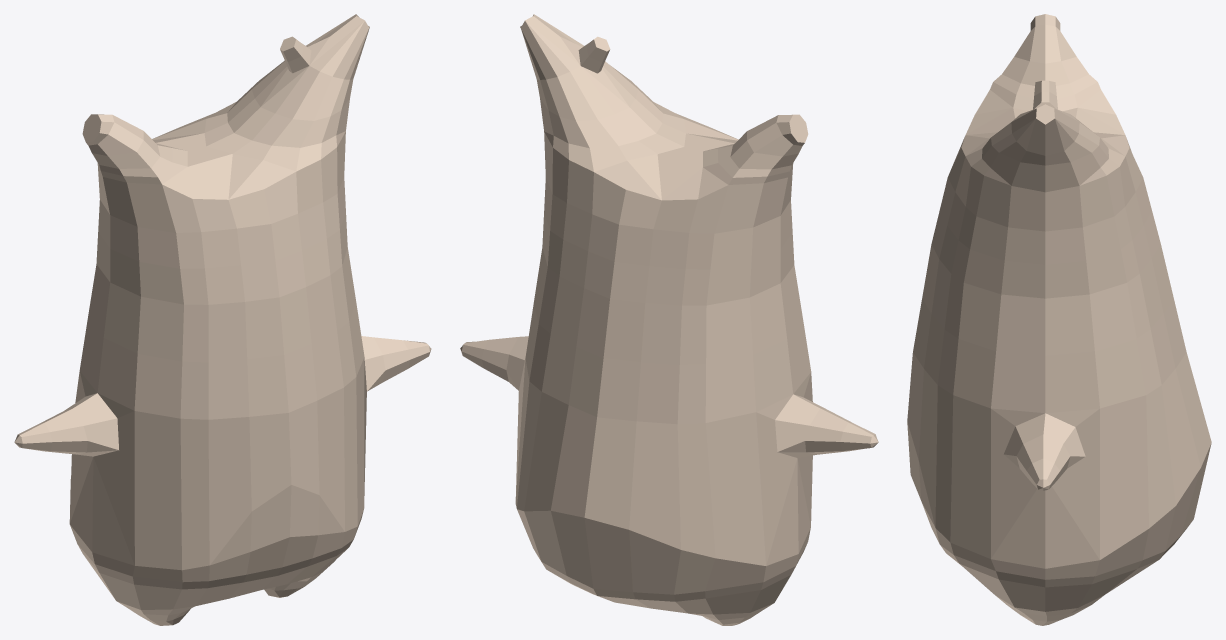
Rendered from frame_0156.obj.
The picture shows the model from 3 angles, left to right: view 1: azimuth 30°, elevation 25°; view 2: azimuth 150°, elevation 25°; view 3: azimuth 270°, elevation 25°; orthographic projection.
Parts seen in each view (by area): view 1: korok; view 2: korok; view 3: korok.
Part boxes in pixels (<box>): korok: <box>14,14,431,625</box>; korok: <box>460,14,878,625</box>; korok: <box>907,14,1211,625</box>.
Bounding box in the file's own units: 1.68 × 2.16 × 1.07.
